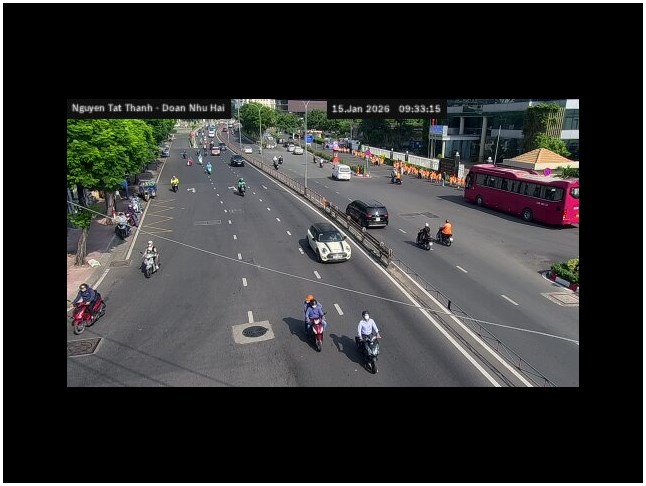bus: (463, 163, 578, 227)
car: (304, 224, 352, 263), (345, 198, 389, 229), (329, 164, 352, 181), (139, 182, 157, 198), (229, 156, 245, 167)
motorbike: (140, 252, 160, 278)
